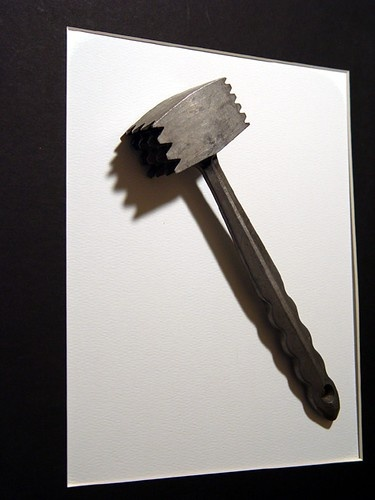hammer: (128, 69, 345, 435)
